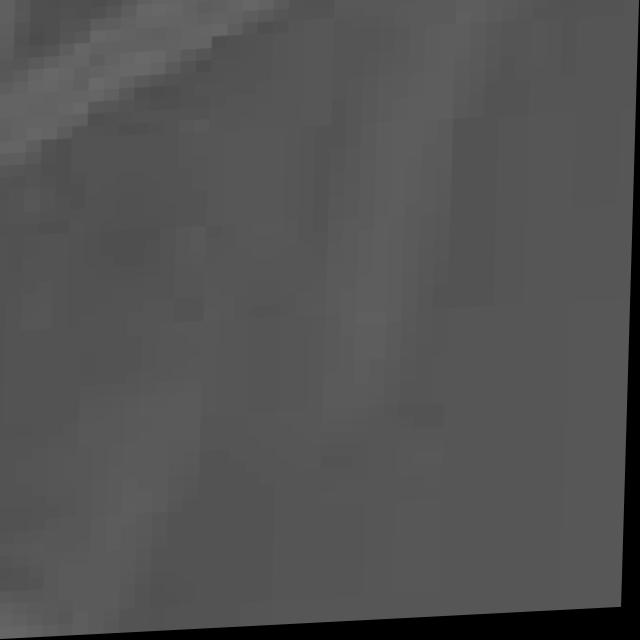fracture: (0, 0, 626, 626)
